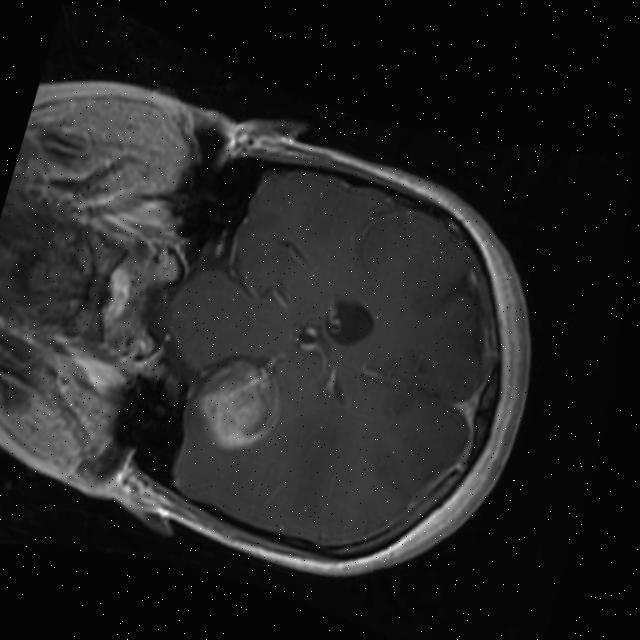Glioma: (180, 344, 296, 463)
